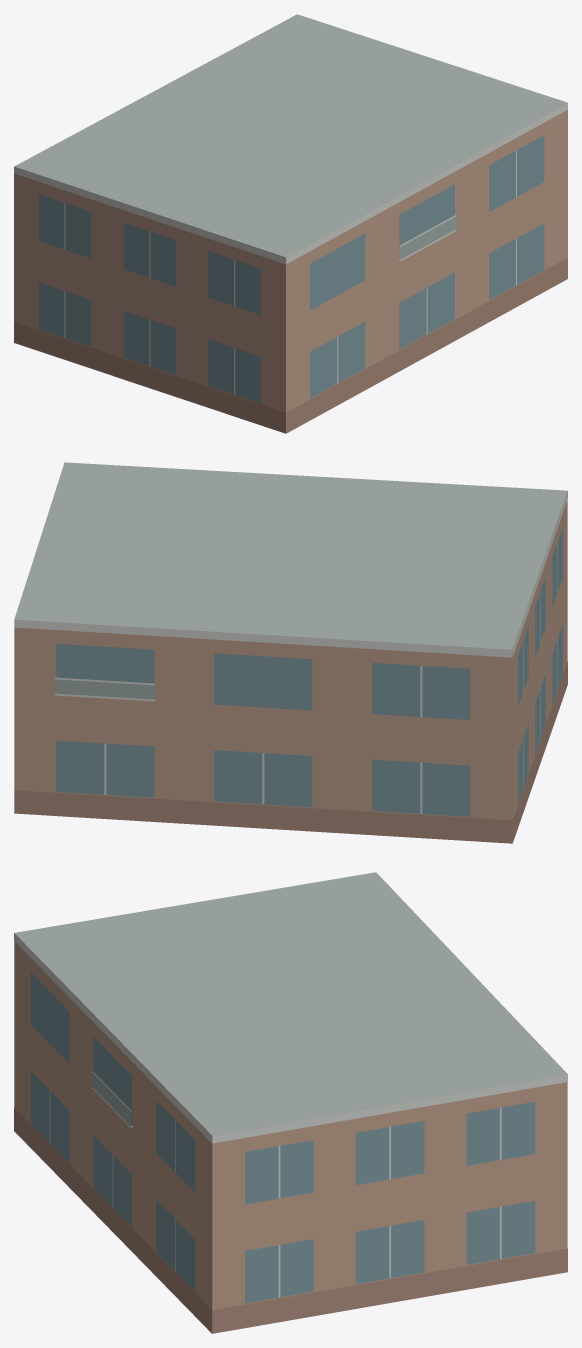
The model's file is survey-upis-32752133.glb.
3 renders of one model, top to bottom at view 1: azimuth 30°, elevation 25°; view 2: azimuth 150°, elevation 25°; view 3: azimuth 270°, elevation 25°, orthographic. The views are drawn at different scales.
Parts seen in each view (by area): view 1: survey-upis-32752133.tmp; view 2: survey-upis-32752133.tmp; view 3: survey-upis-32752133.tmp.
Boxes of the visible parts, x1,y1,x2,y2 form: survey-upis-32752133.tmp: [14, 14, 567, 433]; survey-upis-32752133.tmp: [14, 462, 567, 843]; survey-upis-32752133.tmp: [14, 872, 567, 1333].
Size of the model in its own units: 17.42 by 6.1 by 15.46.
